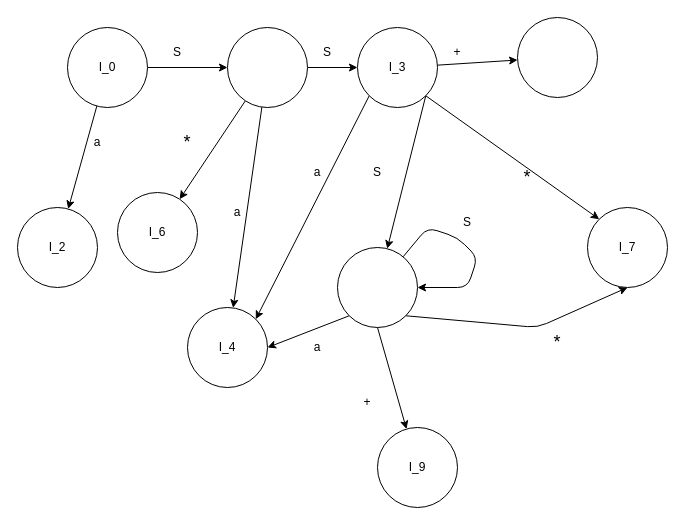
Some shapes in this 685 by 525 pixel diagram are drawn without their labels. The centre of each missing label's shape, as x and y in pixels:
"I_1" goes at (x=267, y=67).
"I_5" goes at (x=557, y=57).
"I_8" goes at (x=377, y=287).
